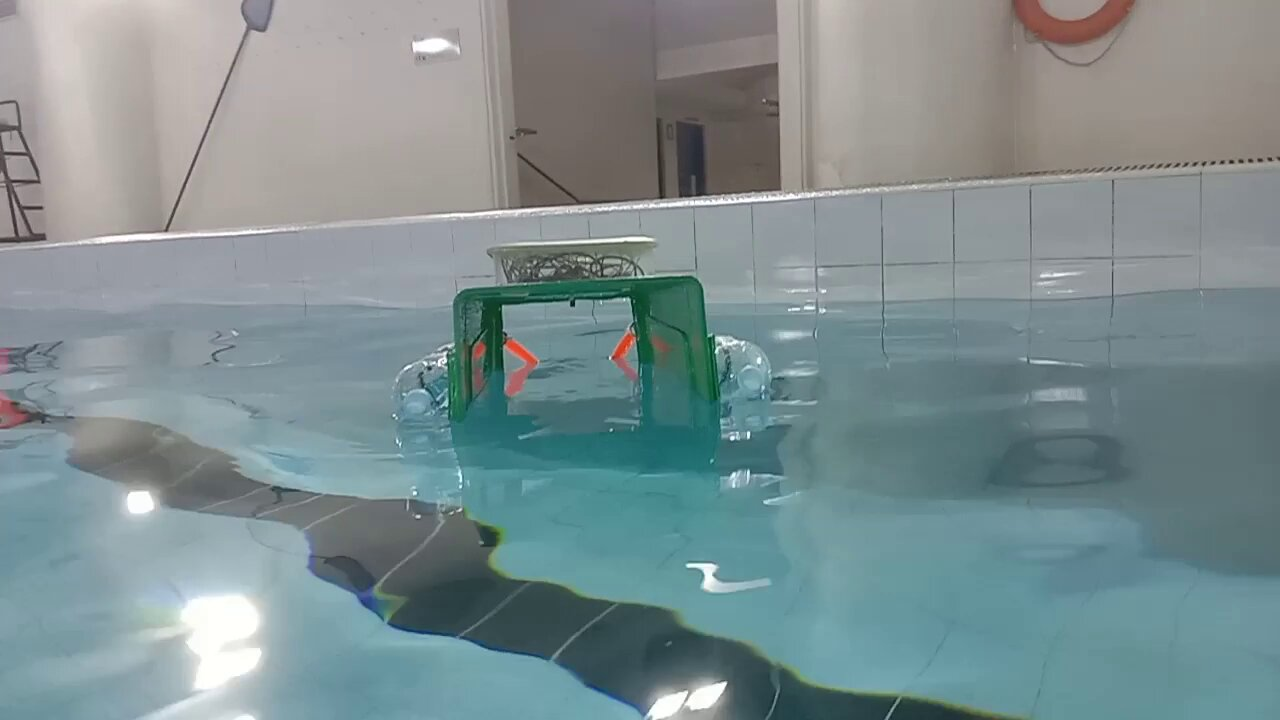drone: (388, 231, 780, 425)
